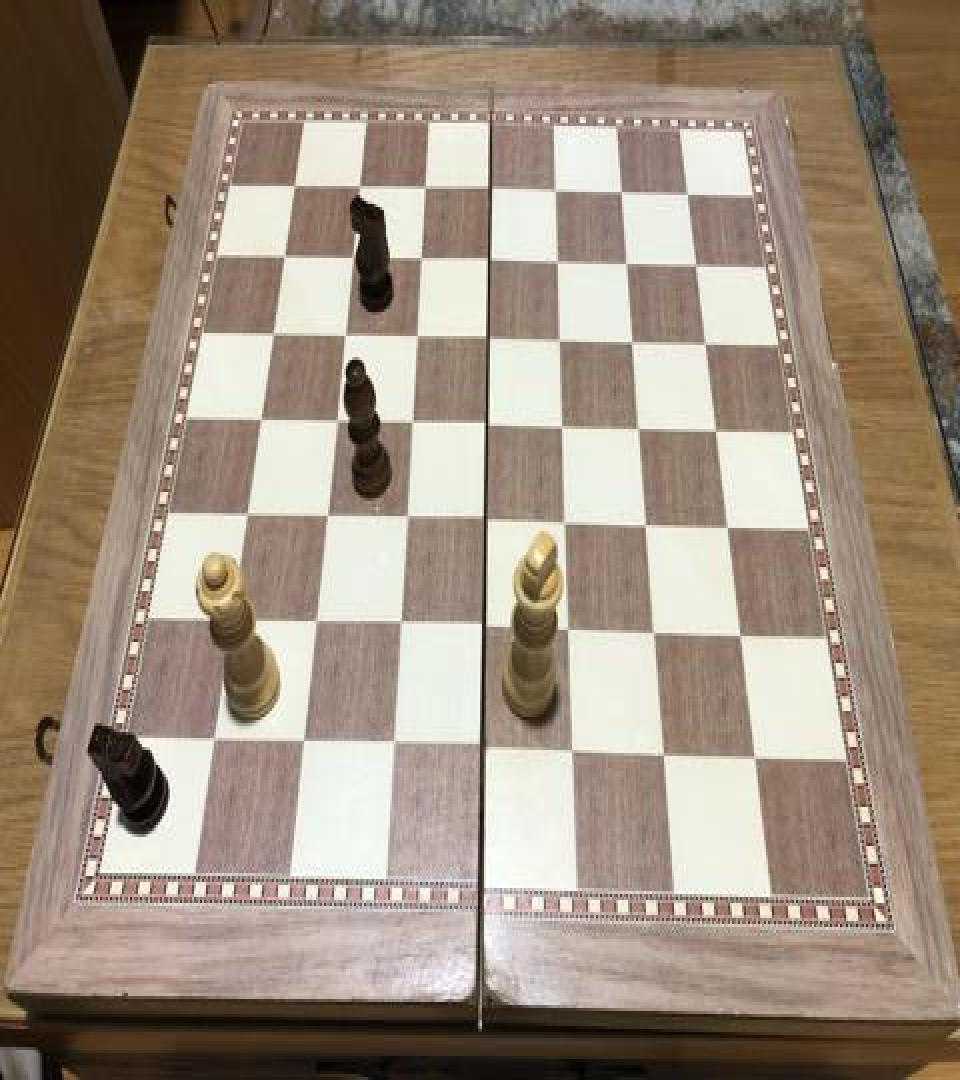xcorner: (558, 610, 582, 647), (382, 727, 406, 764), (676, 176, 700, 212), (611, 174, 635, 210), (416, 171, 440, 207), (351, 171, 375, 207), (287, 170, 311, 206), (684, 246, 708, 282), (616, 244, 640, 280), (548, 244, 572, 280), (480, 243, 504, 279), (412, 242, 436, 278), (344, 240, 368, 276), (277, 240, 301, 276), (694, 324, 718, 360), (622, 322, 646, 358), (550, 321, 574, 357), (478, 321, 502, 357), (407, 320, 431, 356), (336, 318, 360, 354), (265, 316, 289, 352), (704, 411, 728, 447), (628, 410, 652, 446), (552, 408, 576, 444), (477, 406, 501, 442), (402, 405, 426, 441), (327, 404, 351, 440), (252, 402, 276, 438), (715, 507, 739, 543), (635, 506, 659, 542), (555, 504, 579, 540), (475, 502, 499, 538), (396, 501, 420, 537), (317, 498, 341, 534), (238, 496, 262, 532), (728, 615, 752, 651), (643, 614, 667, 650), (474, 609, 498, 645), (389, 608, 413, 644), (305, 606, 329, 642), (222, 603, 246, 639), (742, 736, 766, 772), (652, 735, 676, 771), (562, 732, 586, 768), (472, 730, 496, 766), (293, 726, 317, 762), (204, 723, 228, 759), (546, 173, 570, 208), (481, 173, 505, 208)
